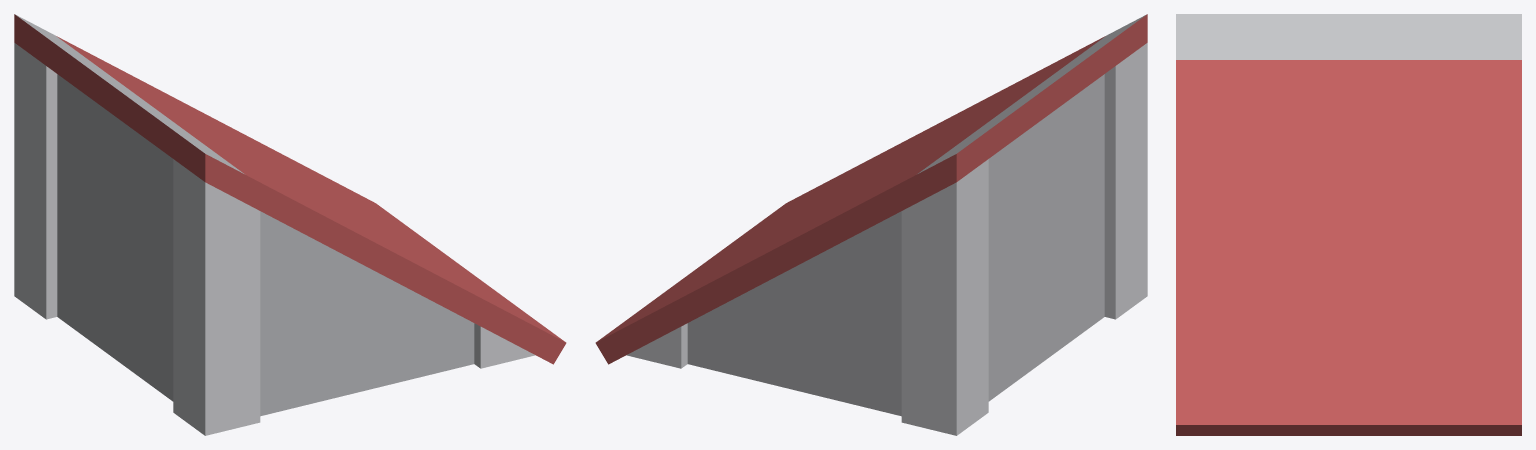
Rendered from Roof_Slant_Red_01.obj.
3 renders of one model, left to right at view 1: azimuth 30°, elevation 25°; view 2: azimuth 150°, elevation 25°; view 3: azimuth 270°, elevation 25°, orthographic. The views are drawn at different scales.
Visible parts, largest first — view 1: Mesh1_Roof_Slant_Red_Model; view 2: Mesh1_Roof_Slant_Red_Model; view 3: Mesh1_Roof_Slant_Red_Model.
Boxes of the visible parts, <box> form: Mesh1_Roof_Slant_Red_Model: <box>14,14,566,435</box>; Mesh1_Roof_Slant_Red_Model: <box>595,14,1147,435</box>; Mesh1_Roof_Slant_Red_Model: <box>1176,14,1521,435</box>.
Bounding box in the file's own units: 3.28 × 2.57 × 3.
